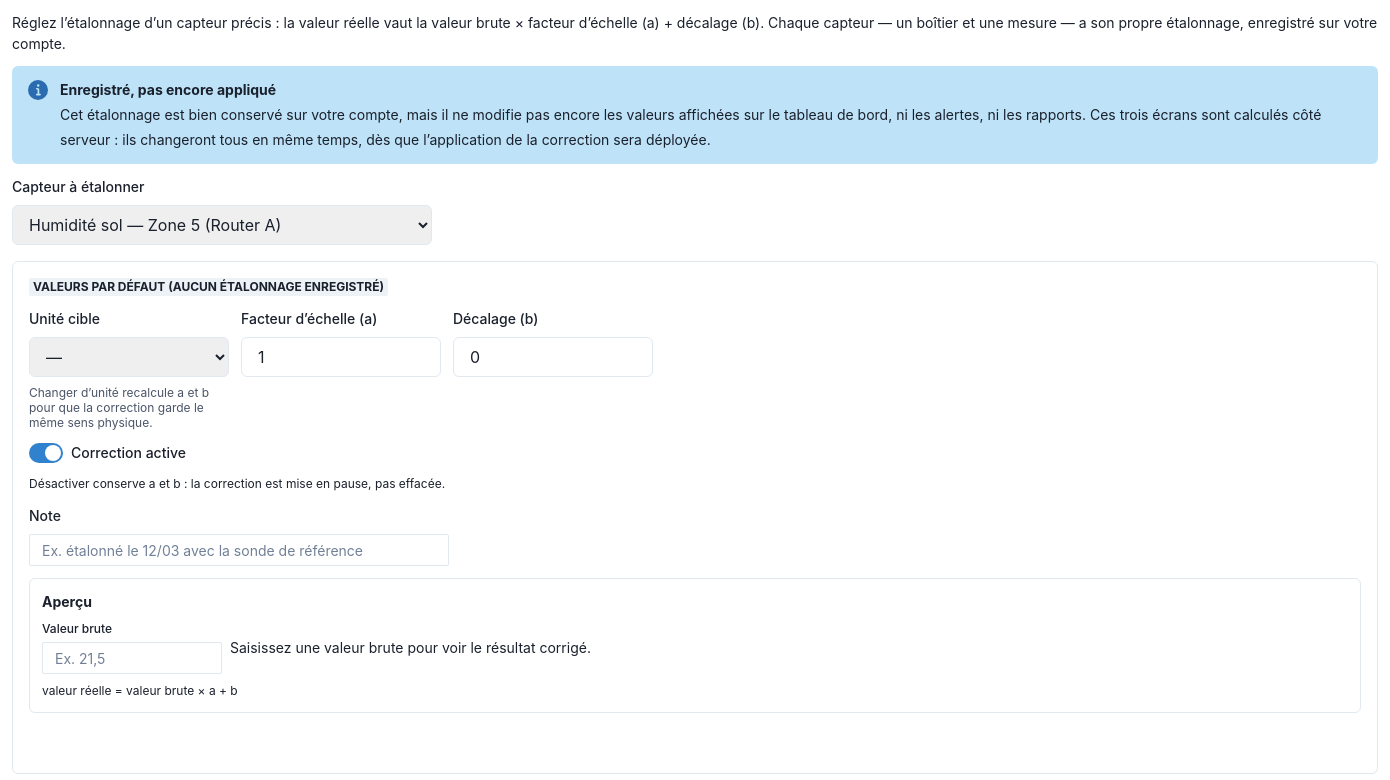
Test: SensorCalibrationSettings — per-sensor, account-persisted › is per SENSOR: picking another sensor reads its own row
The image size is (1390, 780).
Select "pH sol — Zone 9 (Router B)" in the dropdown named "Capteur à étalonner" at (222, 225), box x1=12 y1=205 x2=432 y2=245
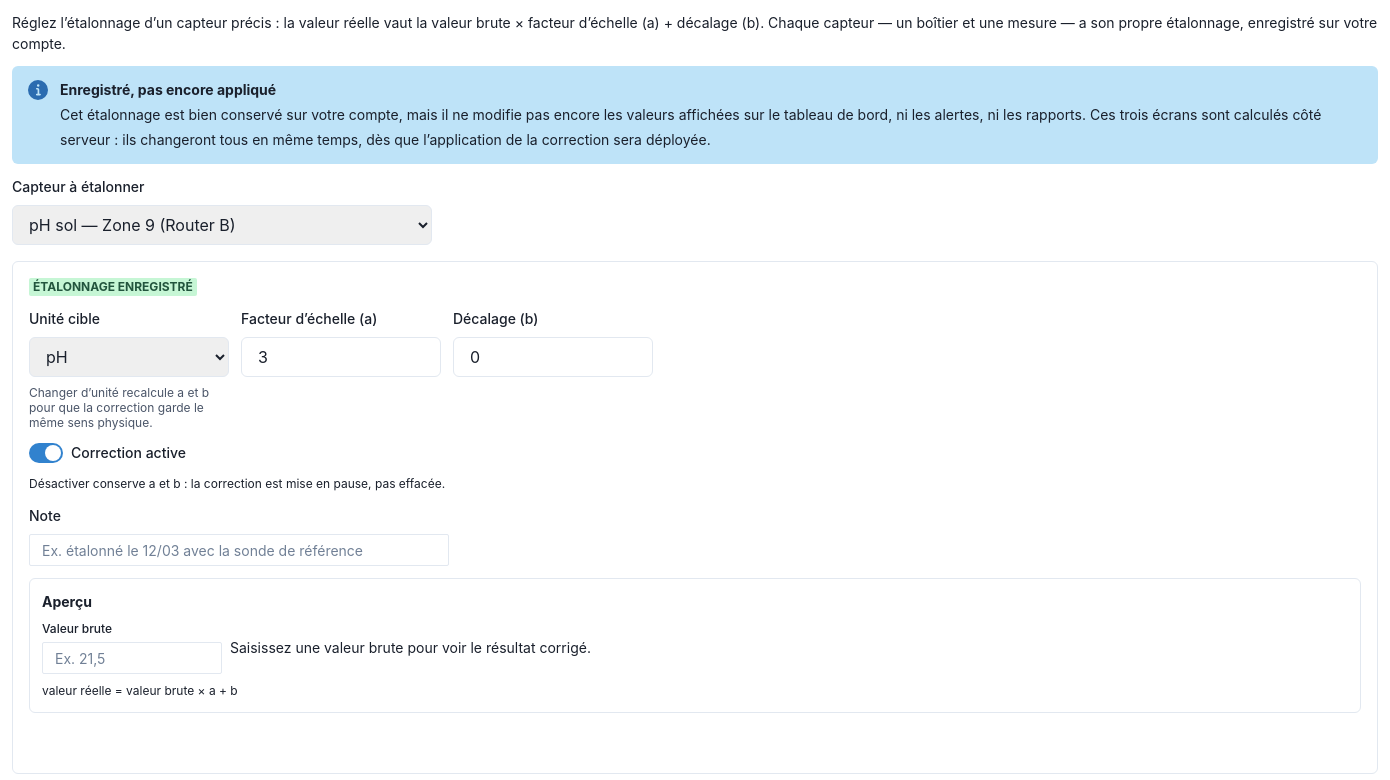
Expected: the number field labelled "Facteur d’échelle (a)" holds "3", x1=241 y1=337 x2=441 y2=377
